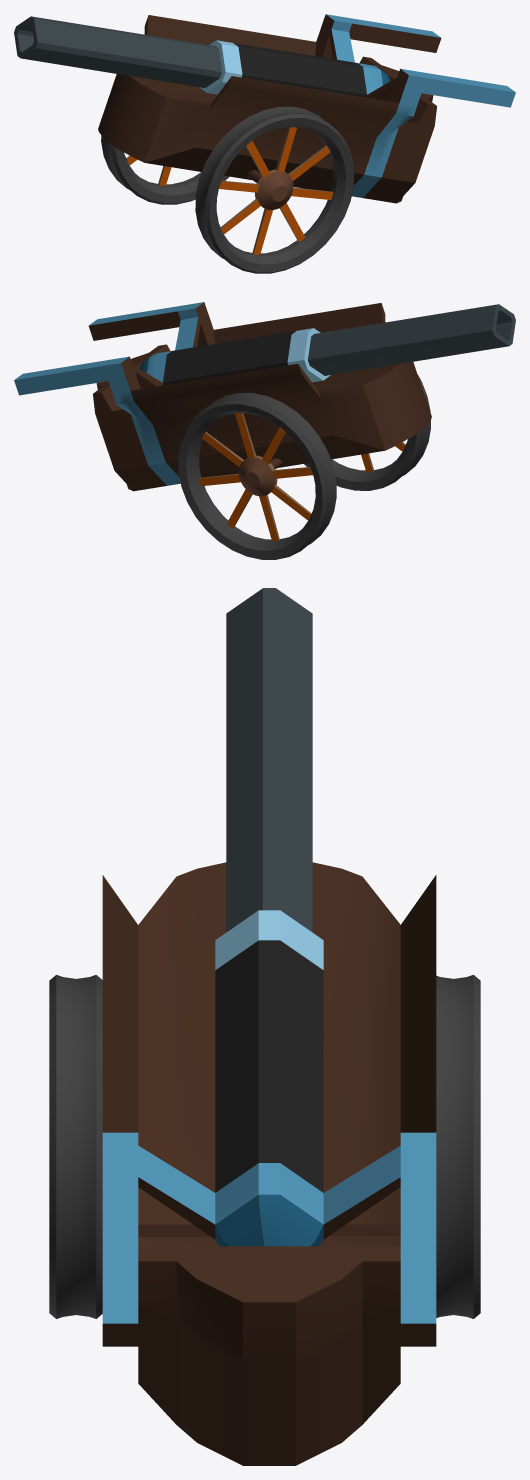
Rendered from Cannon.fbx.
3 renders of one model, top to bottom at view 1: azimuth 30°, elevation 25°; view 2: azimuth 150°, elevation 25°; view 3: azimuth 270°, elevation 25°, orthographic. The views are drawn at different scales.
Visible parts, largest first — view 1: Cannon, Cannon.Wheels; view 2: Cannon, Cannon.Wheels; view 3: Cannon, Cannon.Wheels.
Boxes of the visible parts, x1,y1,x2,y2 form: Cannon: (14,14,515,203); Cannon.Wheels: (101,106,354,273); Cannon: (14,302,515,491); Cannon.Wheels: (178,375,430,559); Cannon: (102,588,436,1465); Cannon.Wheels: (49,975,480,1318).
Size of the model in its own units: 60.01 by 24.61 by 33.08.
Materials: 1 (1 with a texture image).
